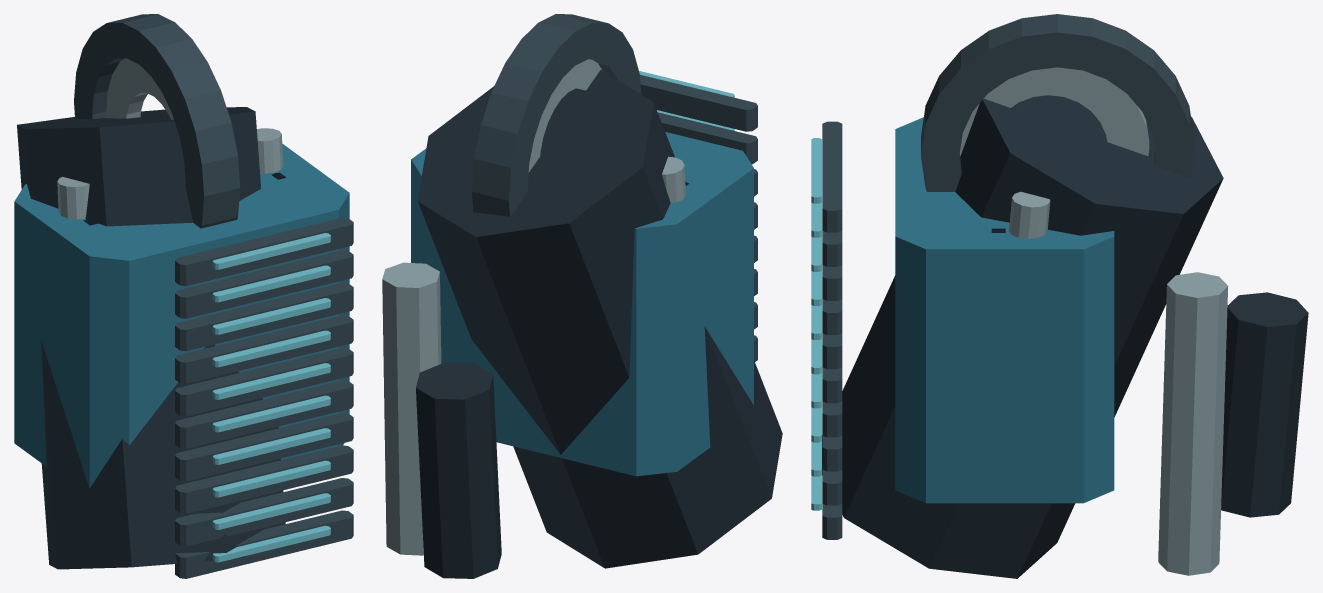
The model's file is enemy_marksman_4k_thigh_l.obj.
3 views of the same model, side by side, from view 1: azimuth 30°, elevation 25°; view 2: azimuth 150°, elevation 25°; view 3: azimuth 270°, elevation 25° (orthographic). The views are drawn at different scales.
Size of the model in its own units: 0.3939 by 0.6852 by 0.5678.
